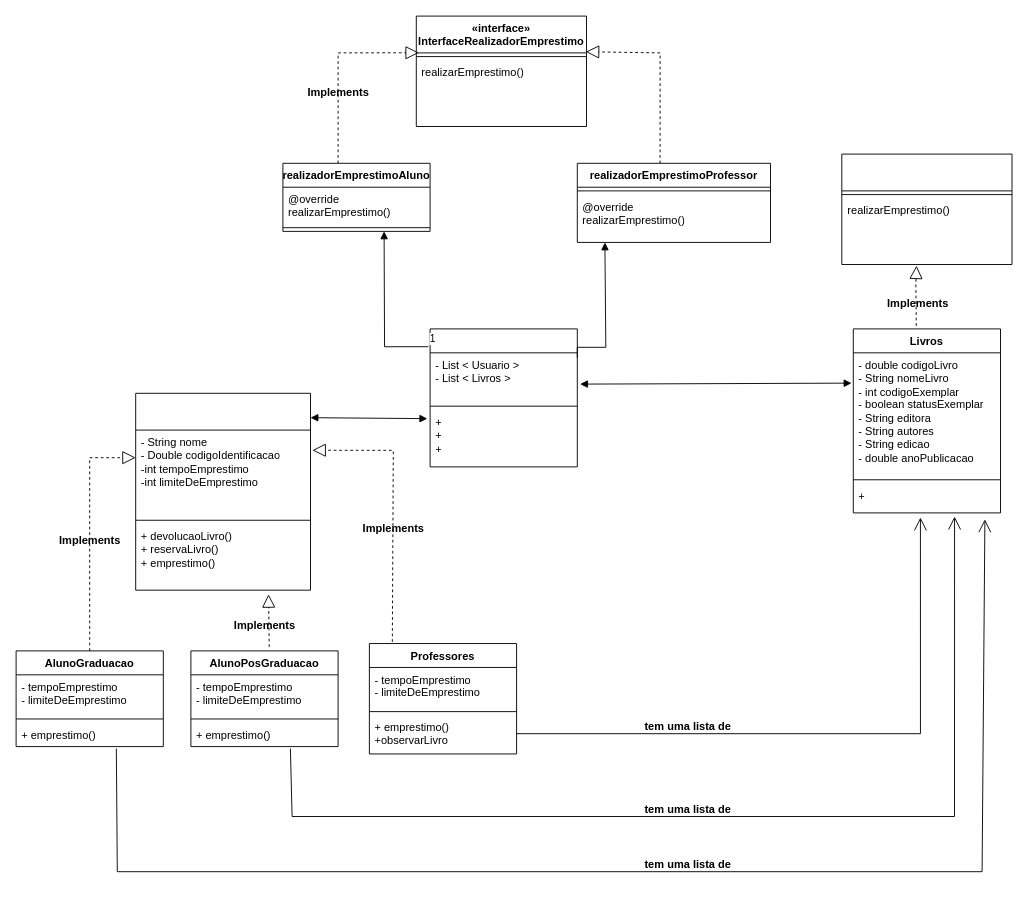
Image size: 1029x901. Some labels were removed from this diagram. Here are the shapes that lost their labels. From the top down, the box of each, then its label:
(841, 153, 1012, 264): «interface» InterfaceLivros
(429, 328, 577, 467): Biblioteca
(135, 392, 310, 590): «interface» InterfaceUsuario
